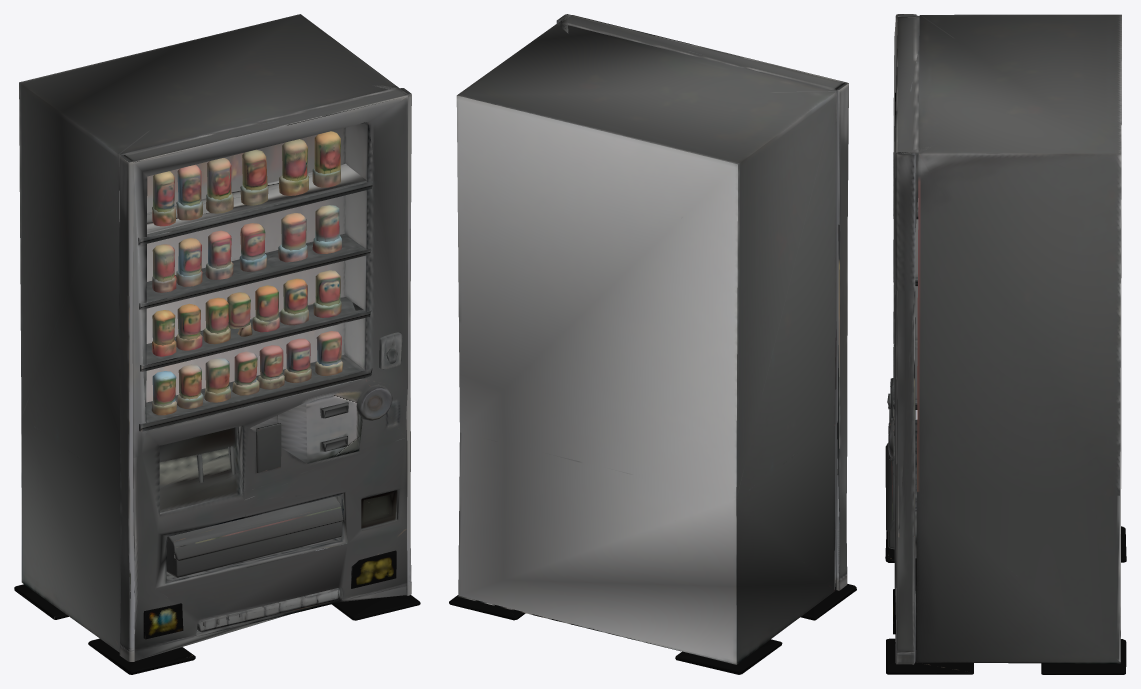
Rendered from vending.glb.
3 views of the same model, side by side, from view 1: azimuth 30°, elevation 25°; view 2: azimuth 150°, elevation 25°; view 3: azimuth 270°, elevation 25° (orthographic).
Visible parts, largest first — view 1: geometry_0; view 2: geometry_0; view 3: geometry_0.
Part boxes in pixels (bbox=[...]): geometry_0: bbox=[14, 14, 420, 674]; geometry_0: bbox=[449, 14, 856, 674]; geometry_0: bbox=[885, 14, 1126, 674].
Size of the model in its own units: 0.6037 by 1 by 0.4224.
1 material, 1 textured.
